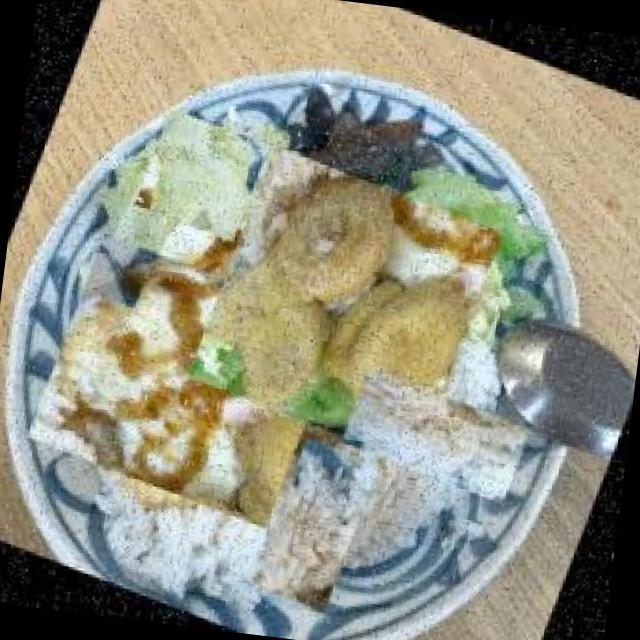chicken_nuggets: (178, 136, 510, 470)
chinese_cabbage: (130, 104, 272, 244)
fried_eggs: (22, 219, 343, 540)
rice: (348, 348, 521, 522), (90, 474, 274, 618), (248, 432, 380, 618)
